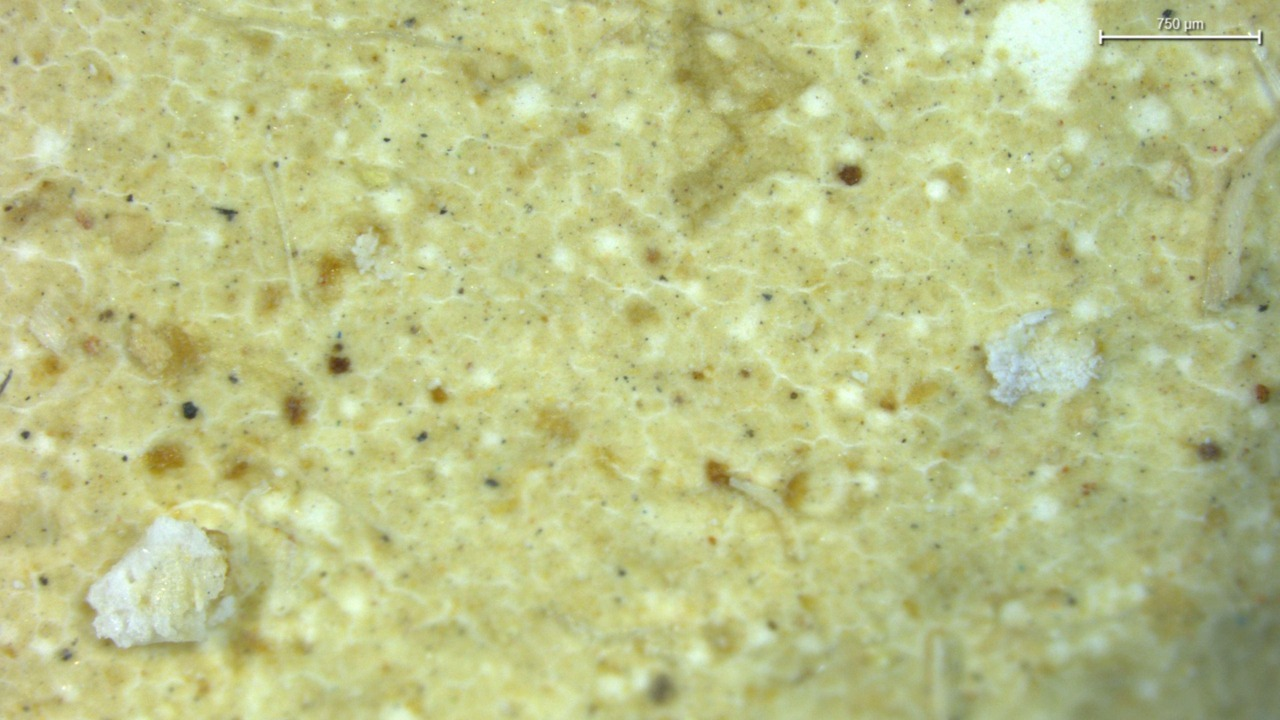microplastic_fragment: (83, 518, 236, 651), (976, 308, 1099, 409)
